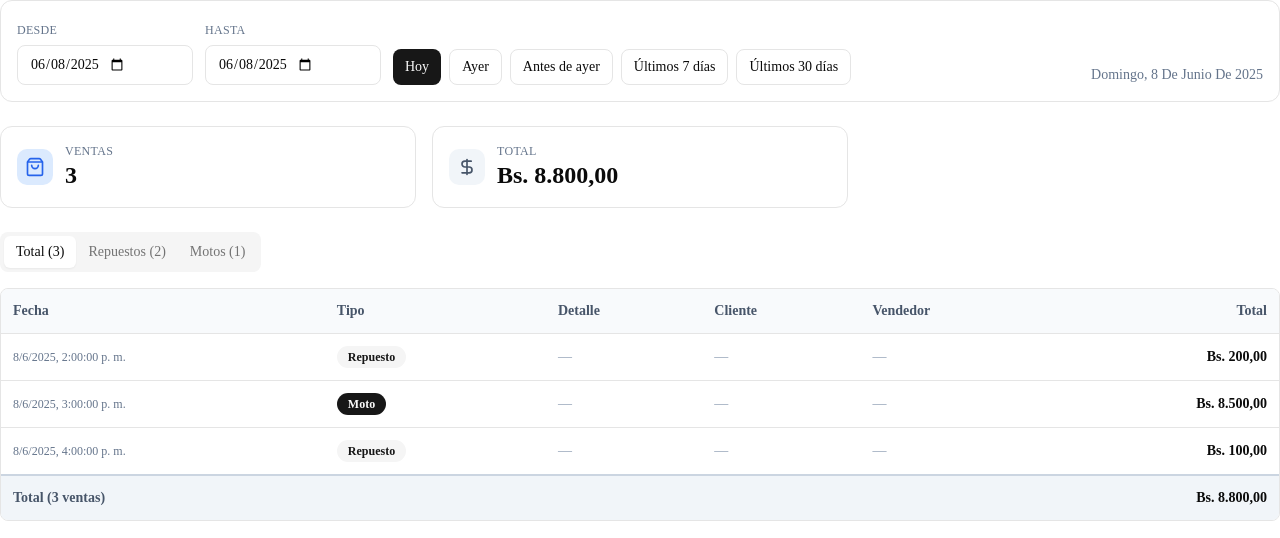
Test: HistorialClient — filtro por fecha › muestra 0 si no hay ventas en la fecha seleccionada
Click the button "Antes de ayer": [561, 67] box [510, 49, 613, 85]
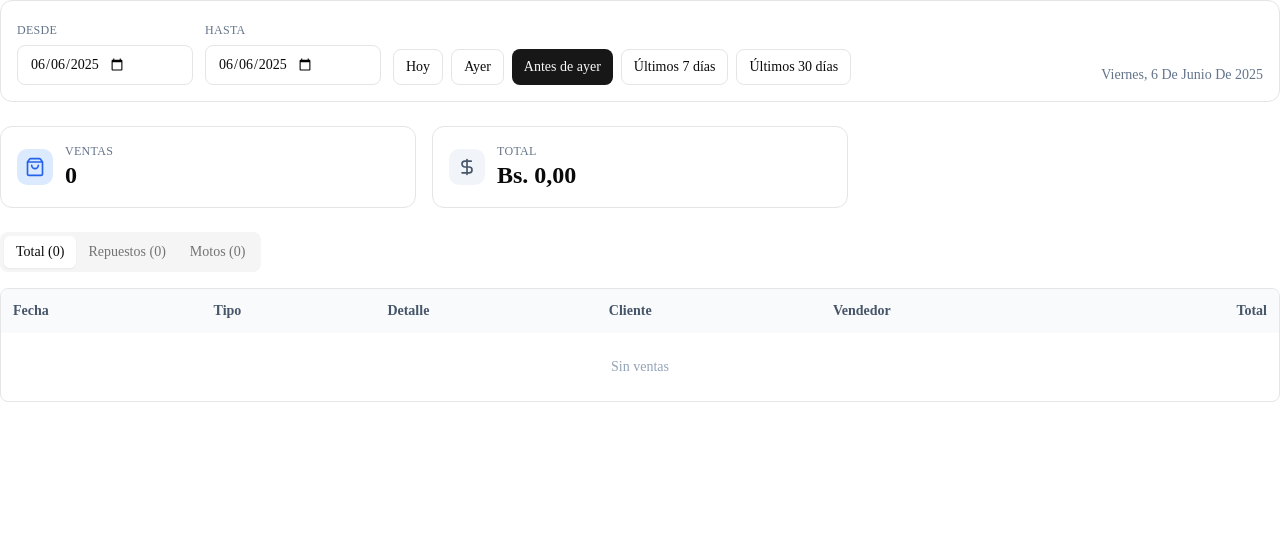
Result: the tab "Total (0)" is shown at [4, 236, 76, 268]
